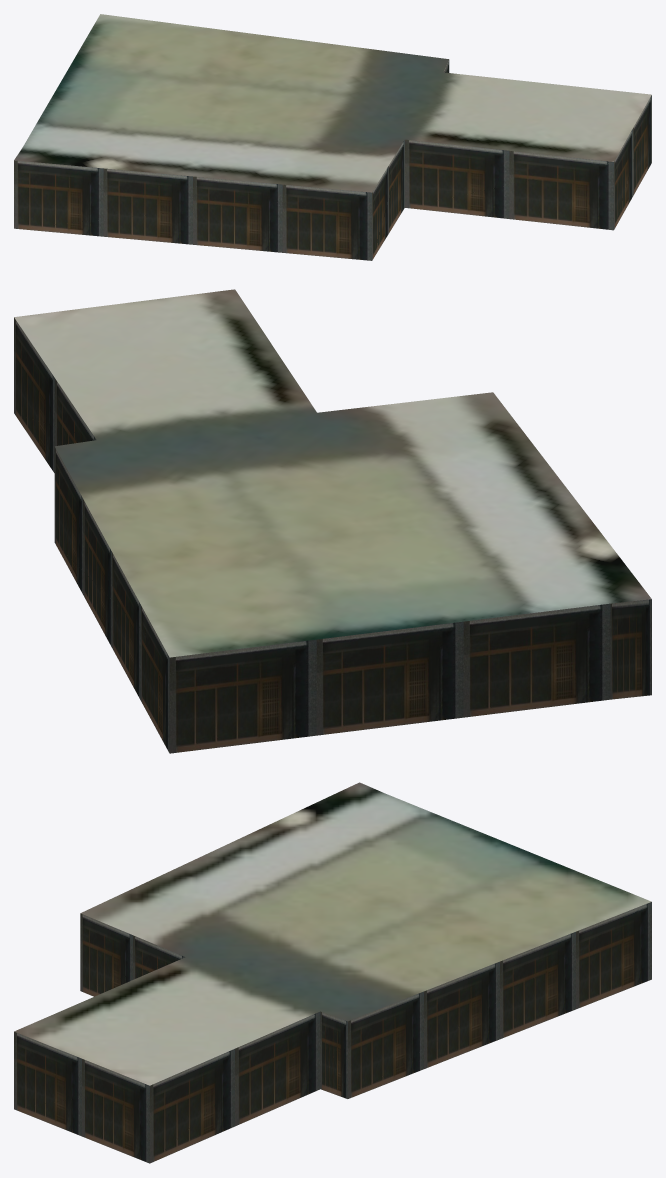
3 views of the same model, one above another, from view 1: azimuth 30°, elevation 25°; view 2: azimuth 150°, elevation 25°; view 3: azimuth 270°, elevation 25° (orthographic). The views are drawn at different scales.
Visible parts, largest first — view 1: SketchUp (×5); view 2: SketchUp (×5); view 3: SketchUp (×6).
Boxes of the visible parts, x1,y1,x2,y2 form: SketchUp (×5): (14,14,651,260); SketchUp (×5): (14,289,651,753); SketchUp (×6): (14,782,651,1163).
Size of the model in its own units: 32.94 by 29.27 by 3.94.
Materials: 2 (2 with a texture image).
